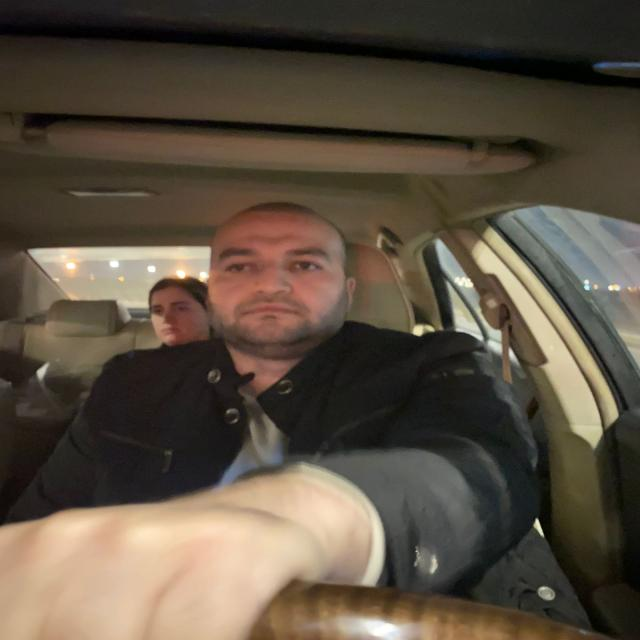person: (202, 200, 370, 355), (140, 272, 212, 351)
